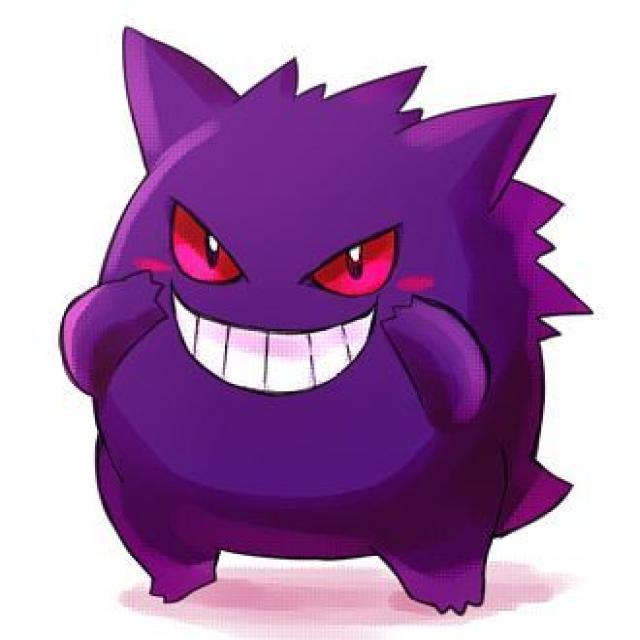Gengar: (77, 62, 577, 614)
